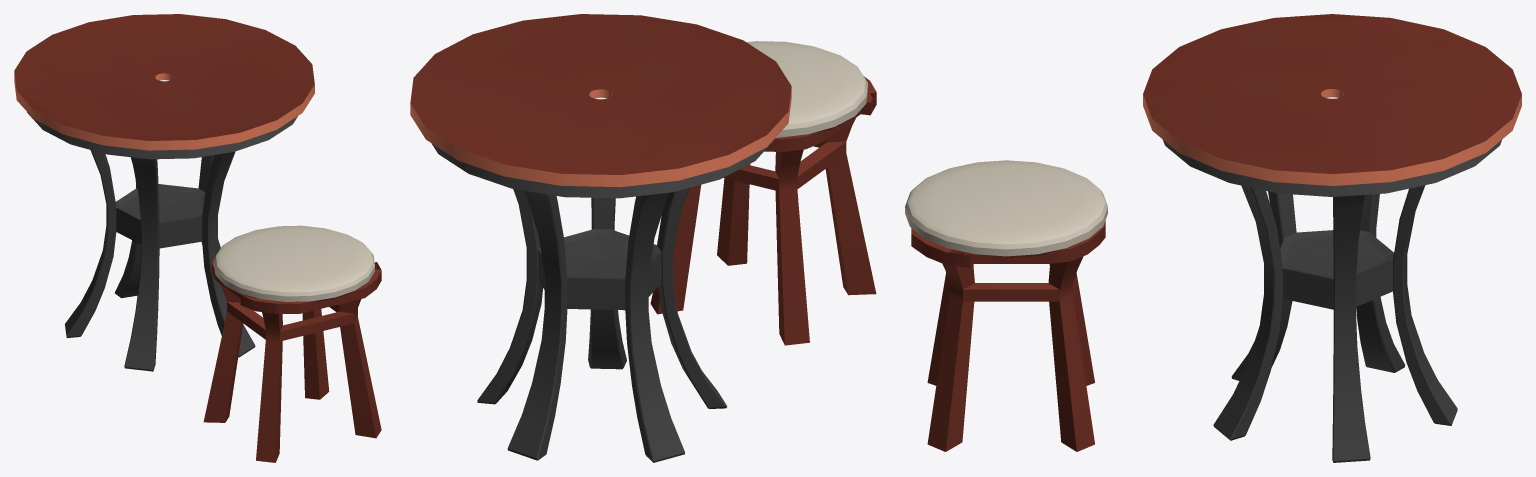
File: new table.fbx
The picture shows the model from 3 angles, left to right: view 1: azimuth 30°, elevation 25°; view 2: azimuth 150°, elevation 25°; view 3: azimuth 270°, elevation 25°; orthographic projection. The views are drawn at different scales.
Parts seen in each view (by area): view 1: pCylinder7, pCylinder9; view 2: pCylinder7, pCylinder9; view 3: pCylinder7, pCylinder9.
Boxes of the visible parts, x1,y1,x2,y2 form: pCylinder7: [14, 14, 314, 371]; pCylinder9: [203, 225, 381, 462]; pCylinder7: [410, 14, 791, 462]; pCylinder9: [650, 41, 876, 345]; pCylinder7: [1143, 14, 1521, 462]; pCylinder9: [905, 160, 1107, 451].
Bounding box in the file's own units: 103 × 96.13 × 168.
